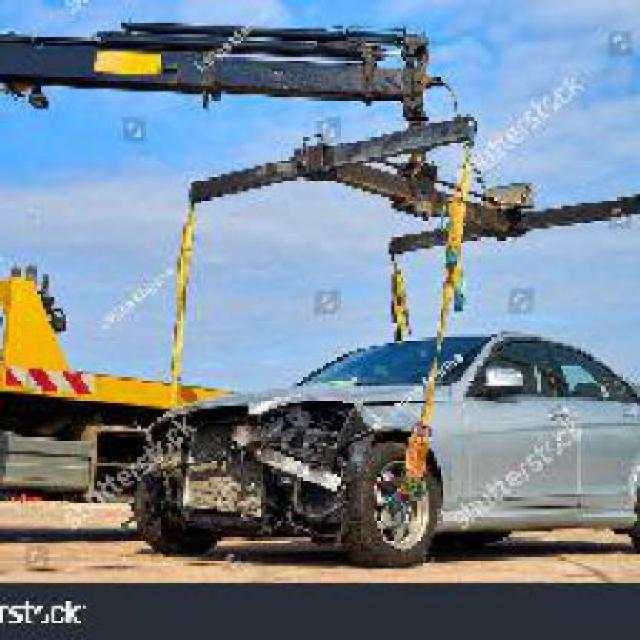damaged-front-bumper: (144, 454, 364, 526)
